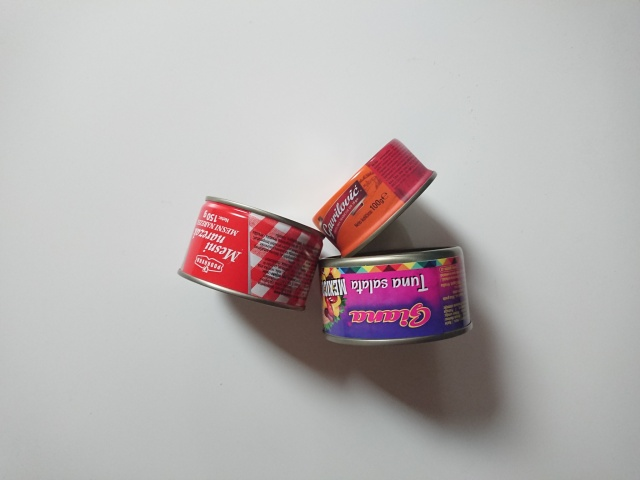Gavrilovic Pork Liver Pate 100g: (310, 137, 441, 260)
Giana Tuna Salad Mexico 185g: (315, 243, 475, 349)
Podravka Luncheon Meat 150g: (175, 193, 328, 314)
